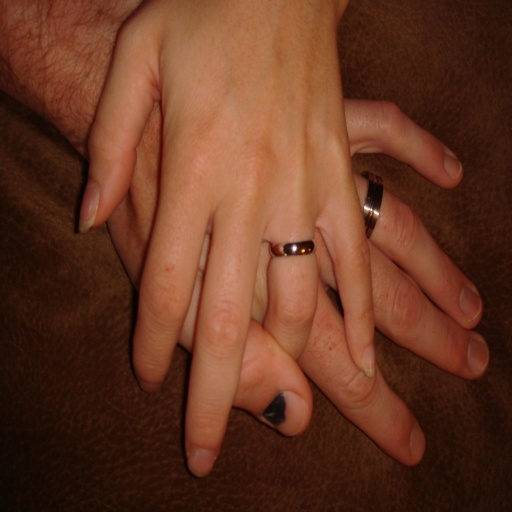hand: (106, 96, 490, 468)
